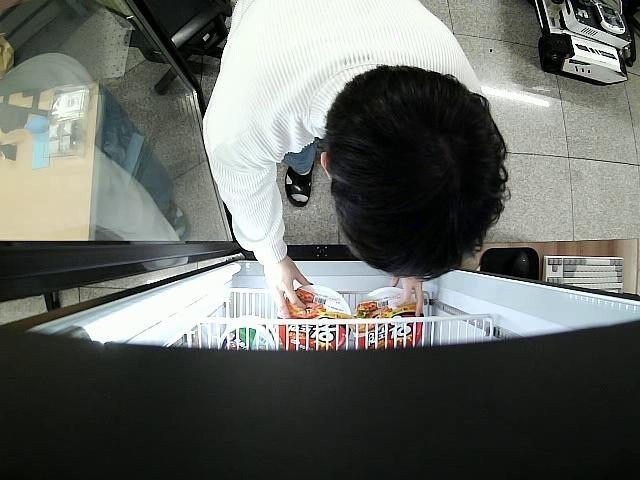10_wangTtukkeong: (274, 286, 352, 352), (356, 288, 424, 351)
